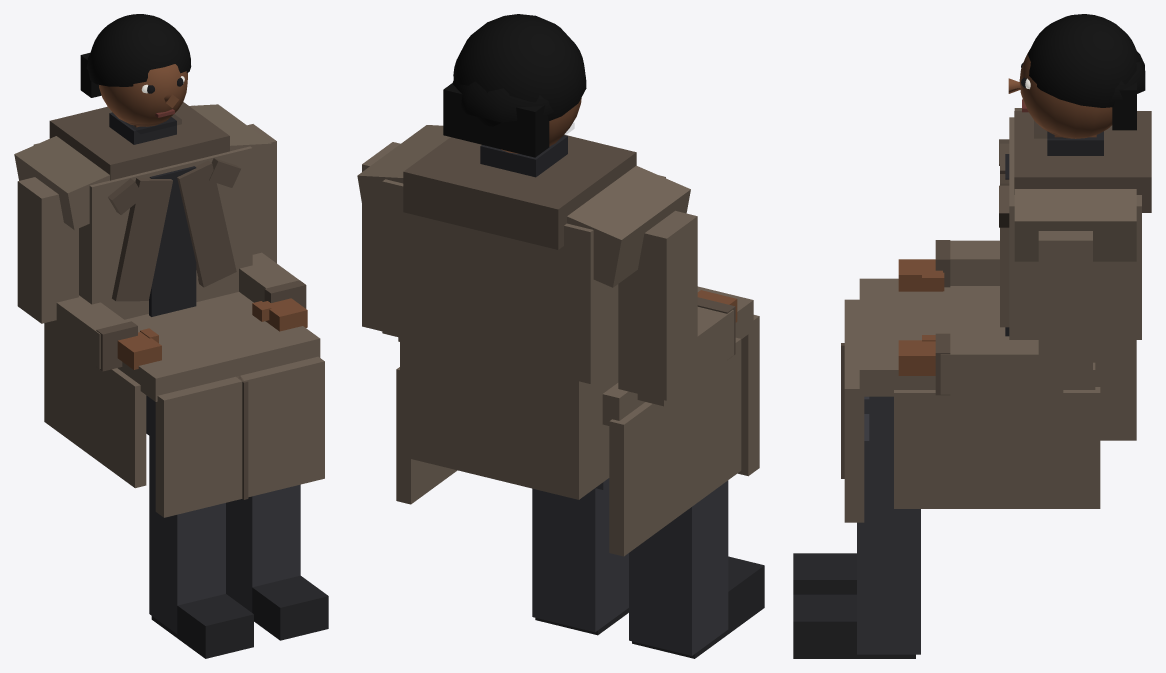
Rendered from passenger_overcoat.glb.
The picture shows the model from 3 angles, left to right: view 1: azimuth 30°, elevation 25°; view 2: azimuth 150°, elevation 25°; view 3: azimuth 270°, elevation 25°; orthographic projection. The views are drawn at different scales.
Parts seen in each view (by area): view 1: passenger_overcoat, Head, Head_Skin, Body_Skin; view 2: passenger_overcoat, Head, Head_Skin; view 3: passenger_overcoat, Head, Head_Skin, Body_Skin.
Part boxes in pixels (x1=…): passenger_overcoat: x1=14, y1=102, x2=328, y2=658; Head: x1=80, y1=14, x2=191, y2=133; Head_Skin: x1=99, y1=64, x2=187, y2=126; Body_Skin: x1=117, y1=125, x2=307, y2=369; passenger_overcoat: x1=357, y1=125, x2=764, y2=658; Head: x1=443, y1=14, x2=586, y2=157; Head_Skin: x1=501, y1=98, x2=581, y2=153; passenger_overcoat: x1=793, y1=108, x2=1151, y2=658; Head: x1=1022, y1=14, x2=1145, y2=137; Head_Skin: x1=1008, y1=50, x2=1112, y2=138; Body_Skin: x1=898, y1=135, x2=1096, y2=375.
Bounding box in the file's own units: 0.6298 × 1.36 × 0.73.
